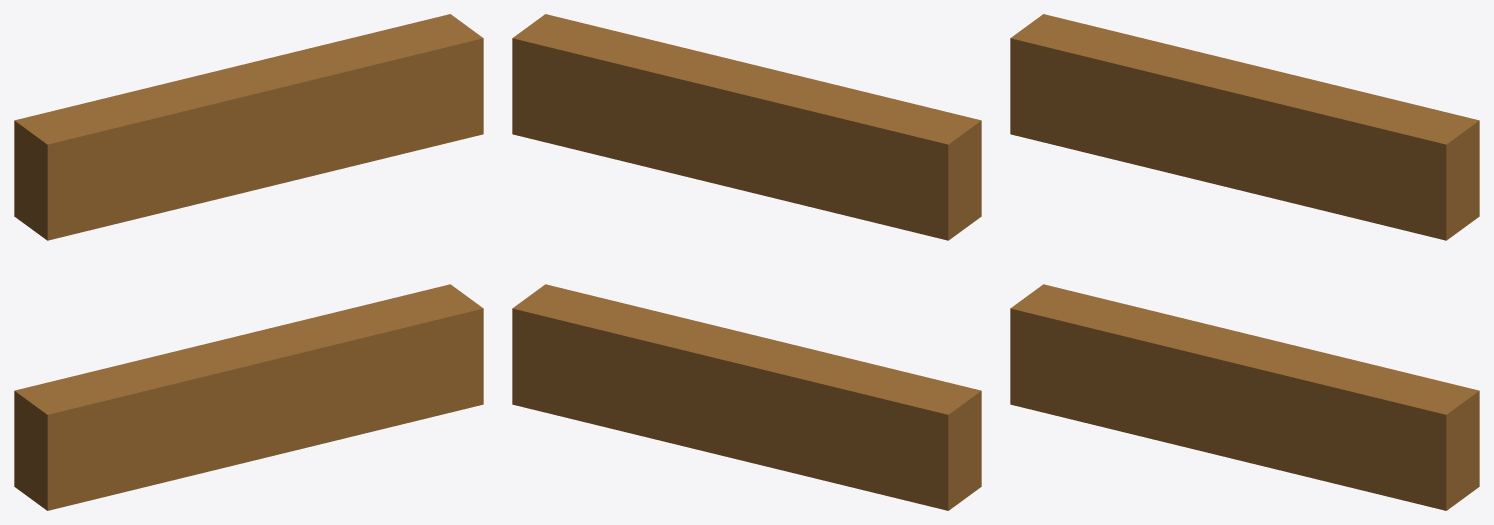
File: Fence_Rails_1m.fbx
3 renders of one model, left to right at view 1: azimuth 30°, elevation 25°; view 2: azimuth 150°, elevation 25°; view 3: azimuth 330°, elevation 25°, orthographic.
Parts seen in each view (by area): view 1: Fence_Rails_1m; view 2: Fence_Rails_1m; view 3: Fence_Rails_1m.
Boxes of the visible parts, bbox=[...] form: Fence_Rails_1m: bbox=[14, 14, 483, 510]; Fence_Rails_1m: bbox=[512, 14, 981, 510]; Fence_Rails_1m: bbox=[1010, 14, 1479, 510].
Bounding box in the file's own units: 0.76 × 0.61 × 0.1.
